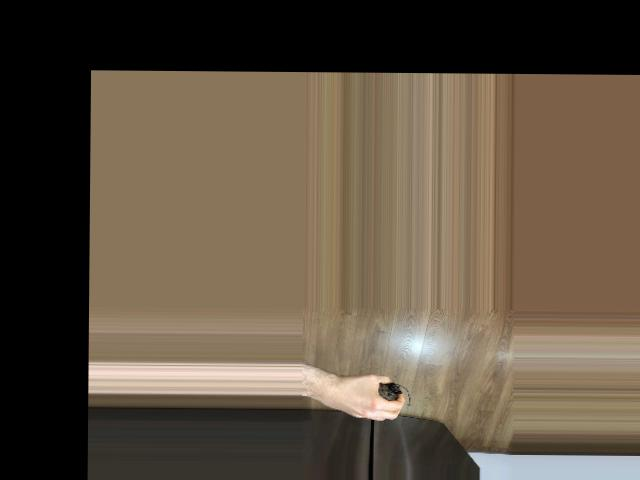beet: (378, 382, 412, 406)
